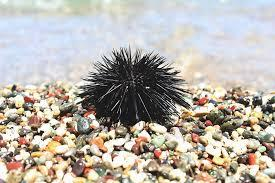urchin: (74, 42, 196, 129)
